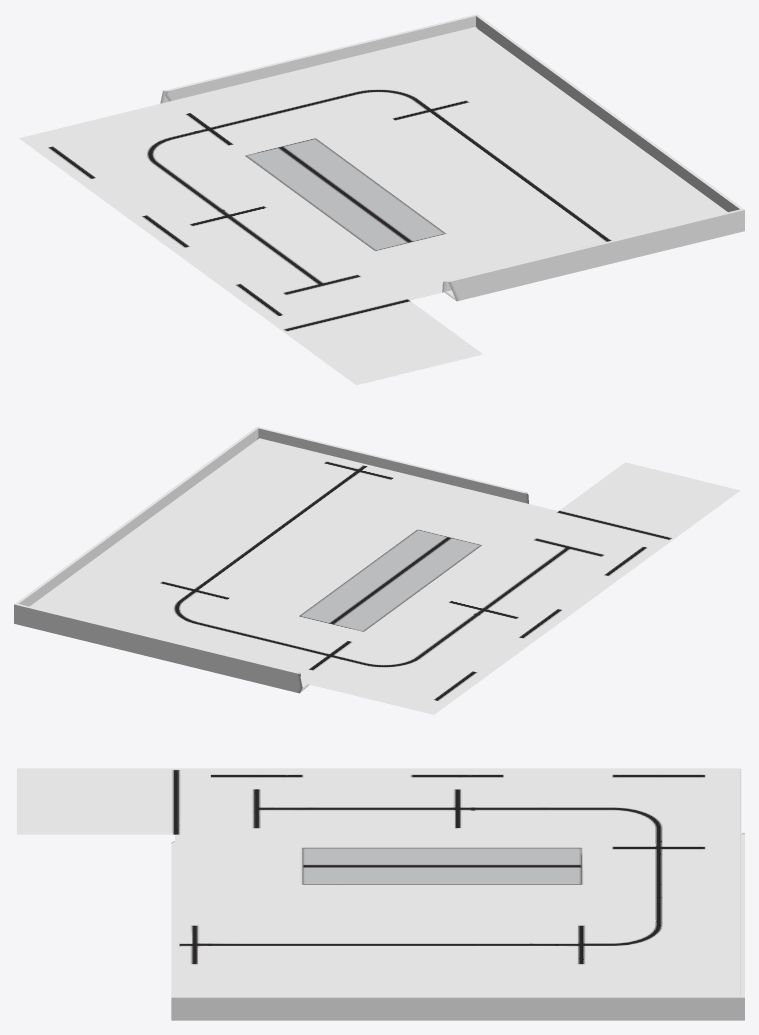
File: rule2019.dae
3 renders of one model, top to bottom at view 1: azimuth 30°, elevation 25°; view 2: azimuth 150°, elevation 25°; view 3: azimuth 270°, elevation 25°, orthographic. The views are drawn at different scales.
Visible parts, largest first — view 1: Rule2019; view 2: Rule2019; view 3: Rule2019.
Boxes of the visible parts, x1,y1,x2,y2 form: Rule2019: [19, 14, 744, 385]; Rule2019: [14, 426, 740, 714]; Rule2019: [17, 768, 744, 1020].
Size of the model in its own units: 1.82 by 2.32 by 0.08.
Materials: 1 (1 with a texture image).
